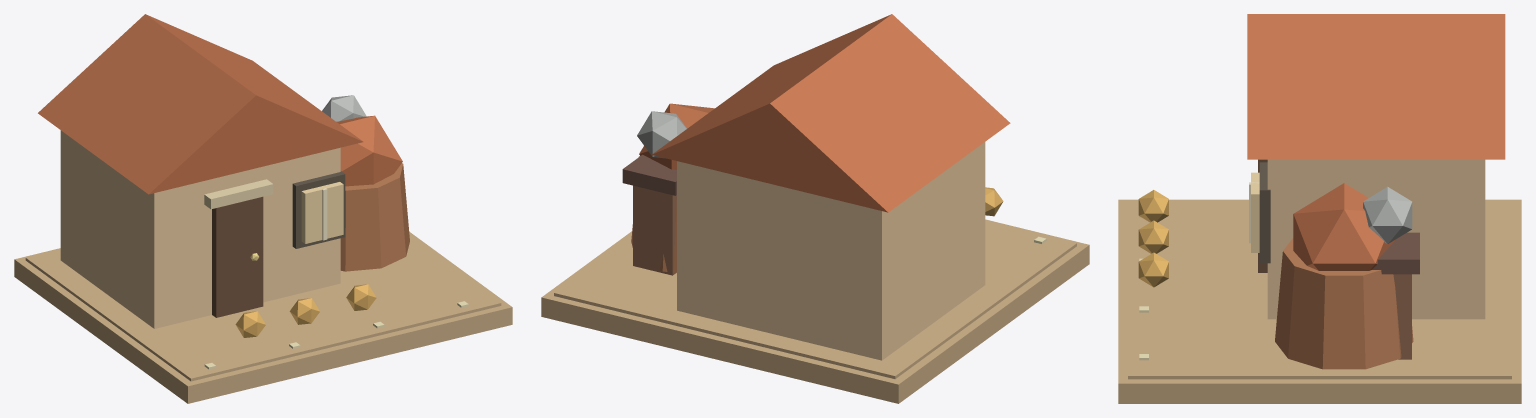
Rendered from bakery-lv1.obj.
3 views of the same model, side by side, from view 1: azimuth 30°, elevation 25°; view 2: azimuth 150°, elevation 25°; view 3: azimuth 270°, elevation 25° (orthographic). The views are drawn at different scales.
Parts seen in each view (by area): view 1: bakery_3, bakery_0, bakery_2, bakery_4, bakery_10, bakery_8, bakery_14, bakery_7, bakery_5, bakery_13; view 2: bakery_2, bakery_3, bakery_0, bakery_11, bakery_12, bakery_13; view 3: bakery_0, bakery_3, bakery_2, bakery_10, bakery_14, bakery_13, bakery_12, bakery_11, bakery_7, bakery_8.
Boxes of the visible parts, left/top/right/bottom form: bakery_3: left=38, top=14, right=402, bottom=194; bakery_0: left=14, top=232, right=512, bottom=403; bakery_2: left=60, top=130, right=340, bottom=328; bakery_4: left=212, top=196, right=263, bottom=317; bakery_10: left=340, top=163, right=409, bottom=271; bakery_8: left=301, top=182, right=343, bottom=243; bakery_14: left=235, top=284, right=376, bottom=337; bakery_7: left=292, top=171, right=345, bottom=248; bakery_5: left=204, top=179, right=273, bottom=209; bakery_13: left=322, top=95, right=366, bottom=121; bakery_2: left=677, top=142, right=985, bottom=360; bakery_3: left=639, top=14, right=1010, bottom=212; bakery_0: left=541, top=219, right=1089, bottom=403; bakery_11: left=633, top=185, right=676, bottom=275; bakery_12: left=622, top=154, right=676, bottom=195; bakery_13: left=637, top=111, right=686, bottom=158; bakery_0: left=1118, top=199, right=1521, bottom=403; bakery_3: left=1247, top=14, right=1505, bottom=270; bakery_2: left=1267, top=159, right=1485, bottom=319; bakery_10: left=1275, top=238, right=1413, bottom=369; bakery_14: left=1138, top=190, right=1168, bottom=287; bakery_13: left=1363, top=186, right=1412, bottom=244; bakery_12: left=1372, top=232, right=1419, bottom=274; bakery_11: left=1393, top=274, right=1411, bottom=359; bakery_7: left=1259, top=162, right=1270, bottom=263; bakery_8: left=1251, top=172, right=1259, bottom=252.
Bounding box in the file's own units: 2.7 × 1.89 × 2.5.
